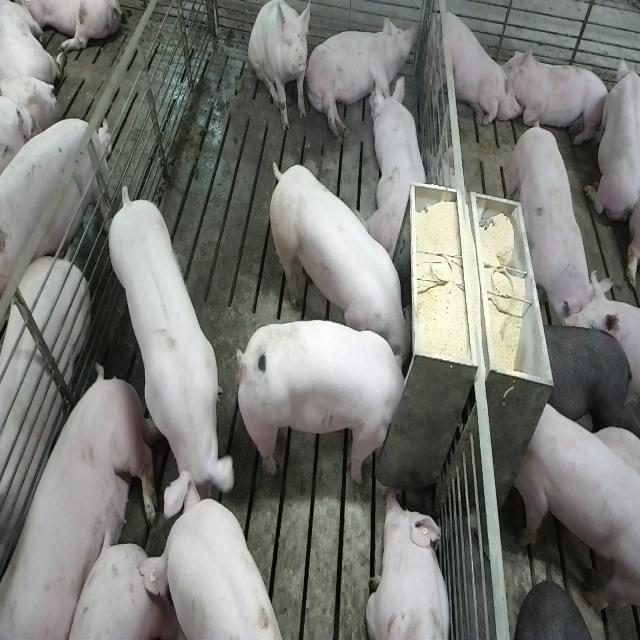Feeding: (264, 159, 412, 364), (232, 318, 408, 485)
Lateral_lying: (5, 367, 159, 640), (304, 12, 418, 139)
Sitting: (422, 2, 514, 136), (248, 2, 311, 133)
Standing: (109, 187, 237, 529), (0, 259, 89, 615), (515, 396, 638, 623), (0, 111, 109, 308), (511, 113, 609, 330), (145, 497, 285, 640), (542, 319, 636, 442)
Sternal_lying: (366, 490, 452, 640), (368, 72, 431, 259), (508, 46, 610, 147), (584, 50, 637, 225)
